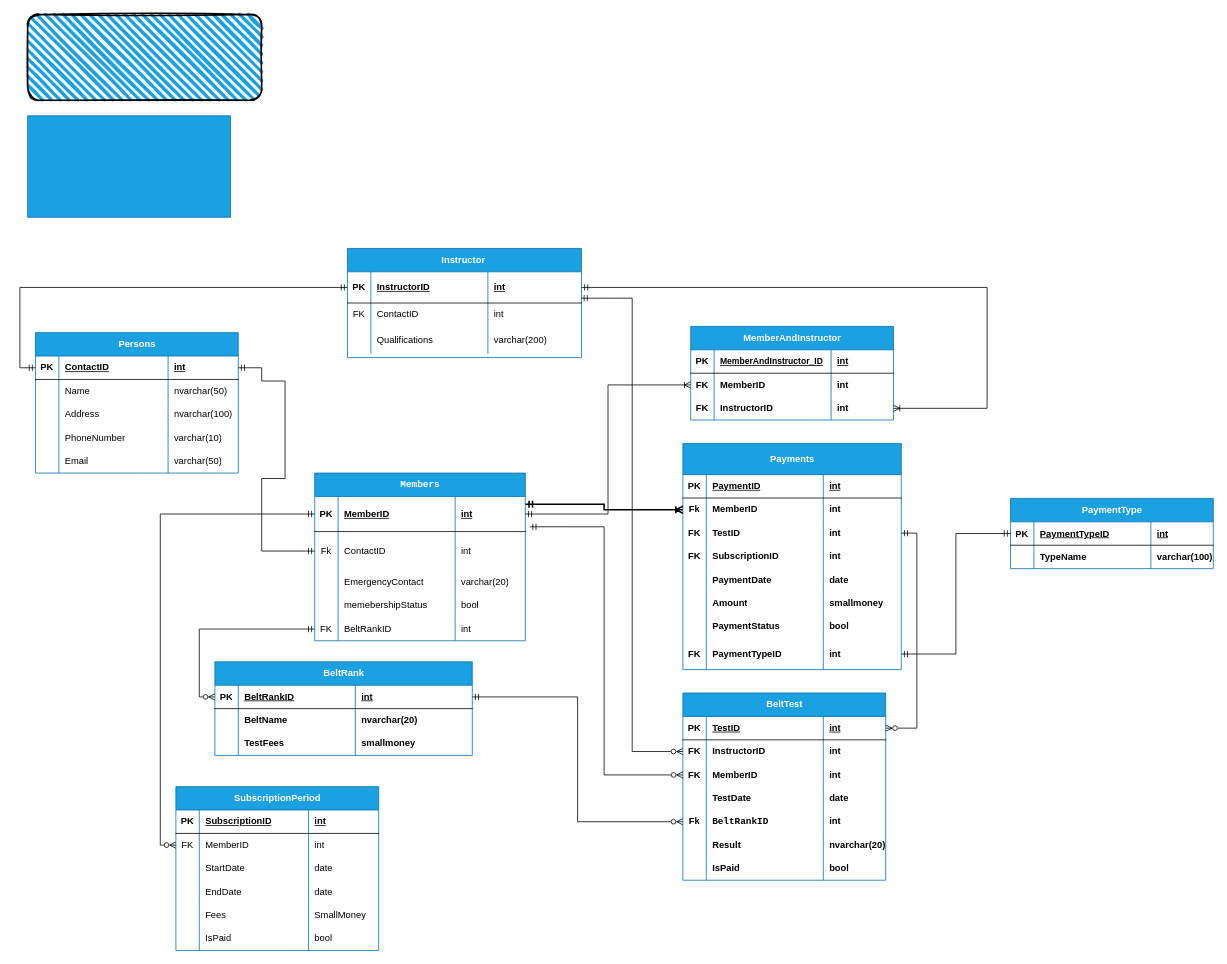
Image size: 1227x964. Some labels were removed from this diagram. Here are the shapes that lost their labels. From the top down, the centre of each, then its label:
At point (144, 57): "Name : MaherSawsak Student Num :220208721".
At point (128, 166): "Karate Club Simple Schema".
